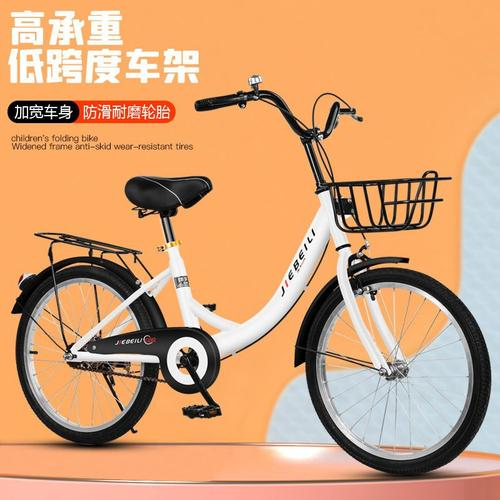单车: (12, 81, 495, 480)
